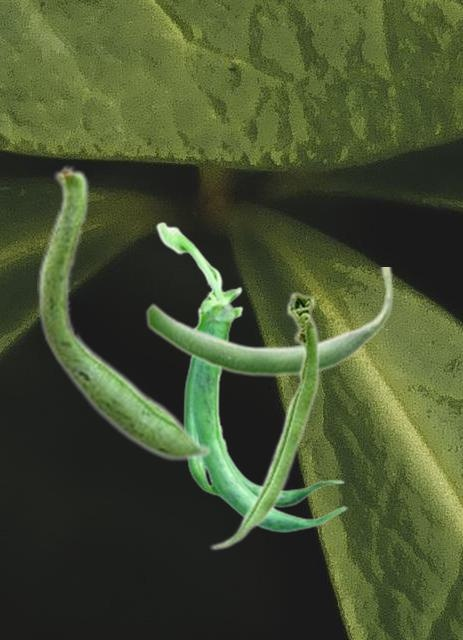french_bean: (155, 221, 346, 532), (37, 163, 211, 461), (209, 290, 319, 550), (145, 267, 393, 377)
